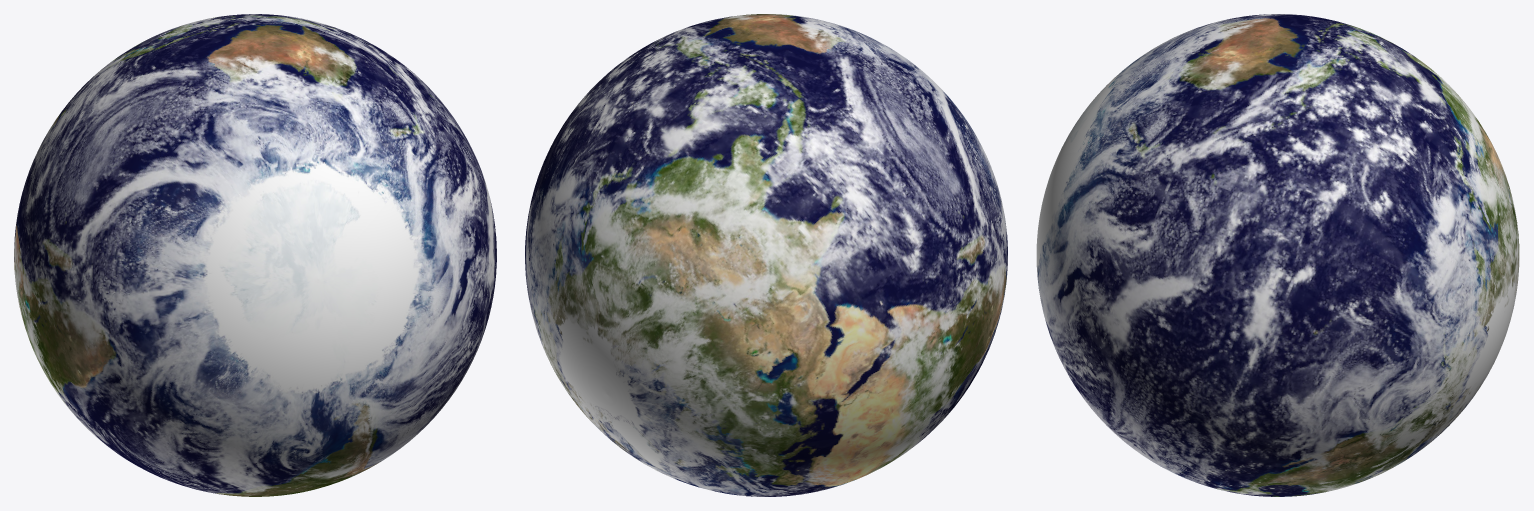
The model's file is Earth.glb.
The picture shows the model from 3 angles, left to right: view 1: azimuth 30°, elevation 25°; view 2: azimuth 150°, elevation 25°; view 3: azimuth 270°, elevation 25°; orthographic projection.
Visible parts, largest first — view 1: Earth; view 2: Earth; view 3: Earth.
Boxes of the visible parts, x1,y1,x2,y2 form: Earth: (14,14,496,496); Earth: (525,14,1007,496); Earth: (1036,14,1519,496).
Size of the model in its own units: 0.2167 by 0.2166 by 0.2167.
1 material, 1 textured.
